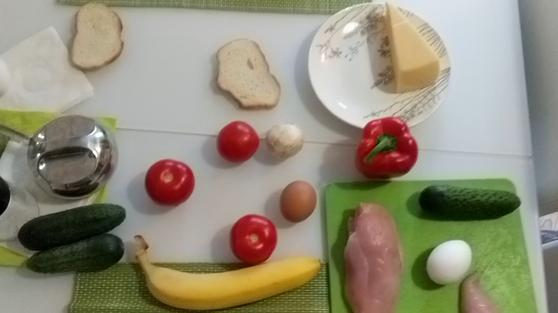banana: (135, 238, 327, 309)
champignon: (268, 123, 303, 153)
cheese: (384, 3, 440, 95)
chicken_fillet: (340, 203, 404, 313), (457, 281, 502, 313)
cucumber: (17, 201, 128, 245), (417, 184, 522, 224), (25, 235, 124, 273)
egg: (421, 238, 471, 287), (281, 183, 317, 224)
pepper: (356, 117, 418, 178)
tomato: (143, 158, 196, 203), (231, 215, 277, 265), (218, 117, 260, 163)
white_bread: (214, 37, 284, 110), (70, 2, 125, 72)
